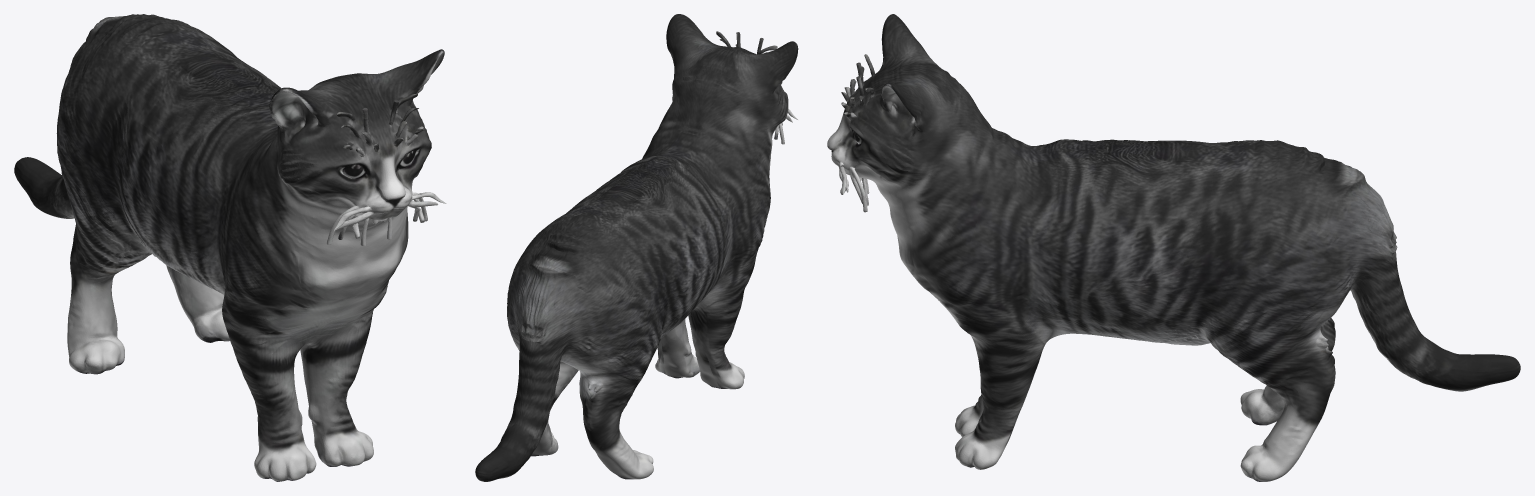
The model's file is cat-normal.glb.
3 views of the same model, side by side, from view 1: azimuth 30°, elevation 25°; view 2: azimuth 150°, elevation 25°; view 3: azimuth 270°, elevation 25° (orthographic). The views are drawn at different scales.
Visible parts, largest first — view 1: tripo_node_8ca6f7b3-fb23-4355-8250-b090b66e7ed8; view 2: tripo_node_8ca6f7b3-fb23-4355-8250-b090b66e7ed8; view 3: tripo_node_8ca6f7b3-fb23-4355-8250-b090b66e7ed8.
Part boxes in pixels (x1,y1,x2,y2): tripo_node_8ca6f7b3-fb23-4355-8250-b090b66e7ed8: (14,14,446,481); tripo_node_8ca6f7b3-fb23-4355-8250-b090b66e7ed8: (475,14,798,481); tripo_node_8ca6f7b3-fb23-4355-8250-b090b66e7ed8: (827,14,1520,481).
Size of the model in its own units: 0.2747 by 0.6363 by 1.
Materials: 1 (1 with a texture image).
